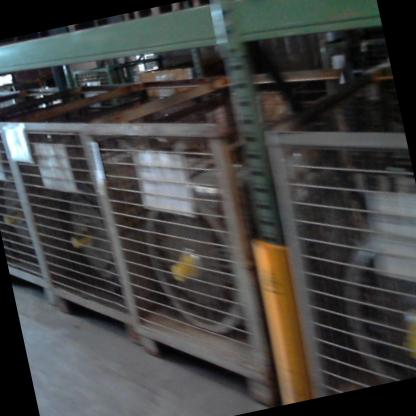stillage: (84, 48, 413, 416), (0, 56, 263, 363), (251, 56, 416, 396), (0, 64, 158, 319)
